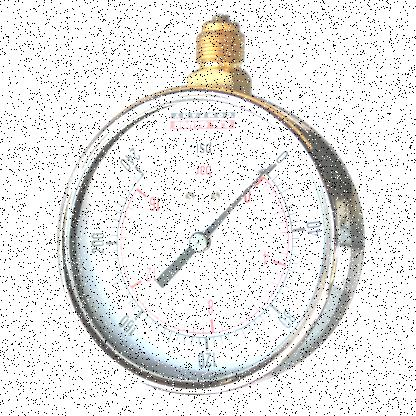needle: (201, 162, 273, 239)
